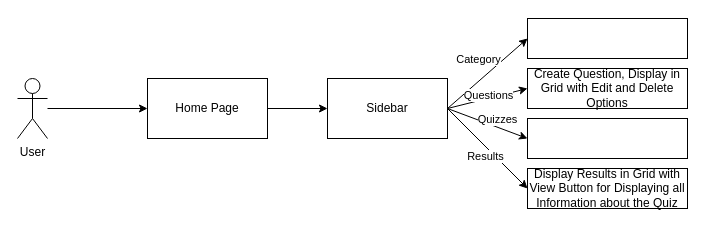
This 705x227 diagram has some shape labels left out. Each missing label, with the box of its shape:
Create Category, Display in Grid with Update and Delete Options: (526, 18, 688, 58)
Create Quiz, Display in Grid with Update and Delete Options and a Run Button: (526, 118, 688, 158)
